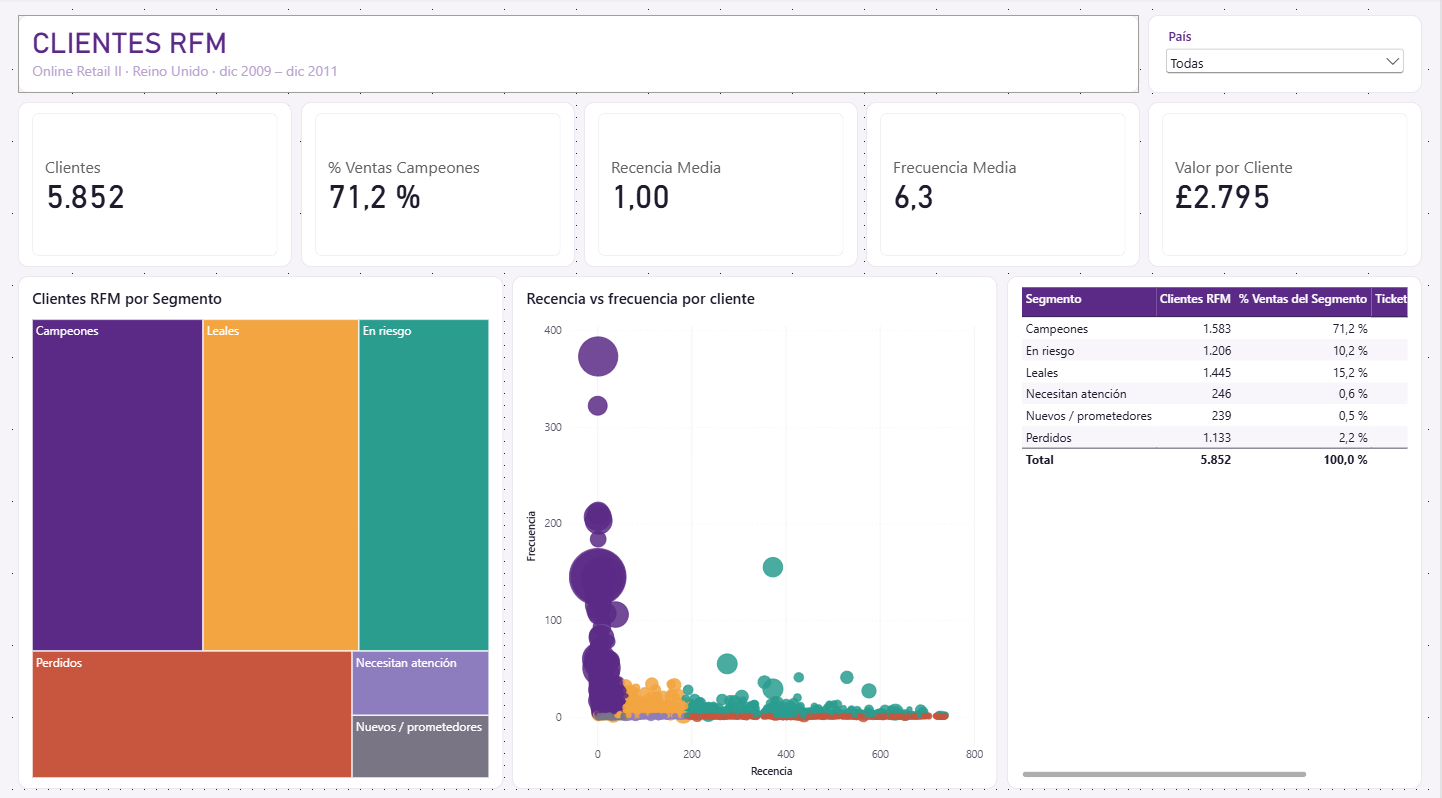

The dashboard page shown, as its layout file describes it:
{"tool":"powerbi","page":{"name":"Clientes RFM","canvas":[1920,1080],"ordinal":1},"visuals":[{"type":"slicer","fields":{"Values":["factVentas.Country"]},"box":[1531,24,365,104],"z":0},{"type":"cardVisual","fields":{"Data":["Medidas.Clientes"]},"box":[24,140,365,220],"z":1000},{"type":"cardVisual","fields":{"Data":["Medidas.% Ventas Campeones"]},"box":[401,140,365,220],"z":2000},{"type":"cardVisual","fields":{"Data":["Medidas.Recencia Media"]},"box":[778,140,365,220],"z":3000},{"type":"cardVisual","fields":{"Data":["Medidas.Frecuencia Media"]},"box":[1154,140,365,220],"z":4000},{"type":"cardVisual","fields":{"Data":["Medidas.Valor por Cliente"]},"box":[1531,140,365,220],"z":5000},{"type":"treemap","fields":{"Group":["dimCliente.Segmento"],"Values":["Medidas.Clientes RFM"]},"box":[24,372,647,684],"z":6000},{"type":"scatterChart","title":"Recencia vs frecuencia por cliente","fields":{"Series":["dimCliente.Segmento"],"Size":["Sum(dimCliente.Monetario)"],"X":["dimCliente.Recencia"],"Y":["dimCliente.Frecuencia"]},"box":[683,372,647,684],"z":7000},{"type":"tableEx","fields":{"Values":["dimCliente.Segmento","Medidas.Clientes RFM","Medidas.% Ventas del Segmento","Medidas.Ticket Medio","Medidas.Recencia Media"]},"box":[1343,372,553,684],"z":8000},{"type":"textbox","title":"CLIENTES RFM","box":[24,24,1495,104],"z":9000}]}

Visuals, with their boxes in screenshot pixels (x1, y1, x2, y2), scaled from the page's 1920x1080 canvas onto the 1442x798 screenshot:
slicer - factVentas.Country: (left=1150, top=18, right=1424, bottom=95)
cardVisual - Medidas.Clientes: (left=18, top=103, right=292, bottom=266)
cardVisual - Medidas.% Ventas Campeones: (left=301, top=103, right=575, bottom=266)
cardVisual - Medidas.Recencia Media: (left=584, top=103, right=858, bottom=266)
cardVisual - Medidas.Frecuencia Media: (left=867, top=103, right=1141, bottom=266)
cardVisual - Medidas.Valor por Cliente: (left=1150, top=103, right=1424, bottom=266)
treemap - dimCliente.Segmento x Medidas.Clientes RFM: (left=18, top=275, right=504, bottom=780)
"Recencia vs frecuencia por cliente" scatterChart: (left=513, top=275, right=999, bottom=780)
tableEx - dimCliente.Segmento x Medidas.Clientes RFM: (left=1009, top=275, right=1424, bottom=780)
"CLIENTES RFM" textbox: (left=18, top=18, right=1141, bottom=95)
